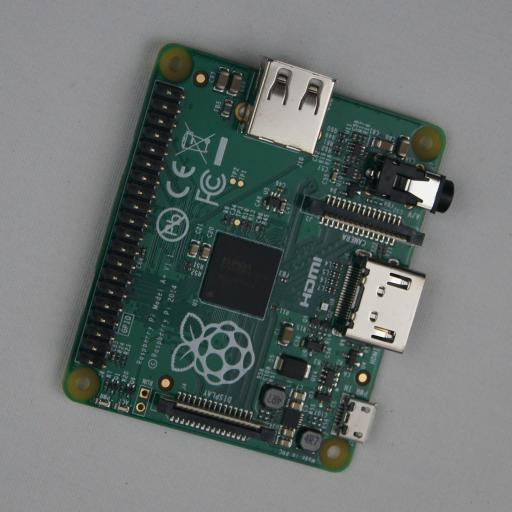Raspberry Pi A-: (62, 42, 454, 472)
